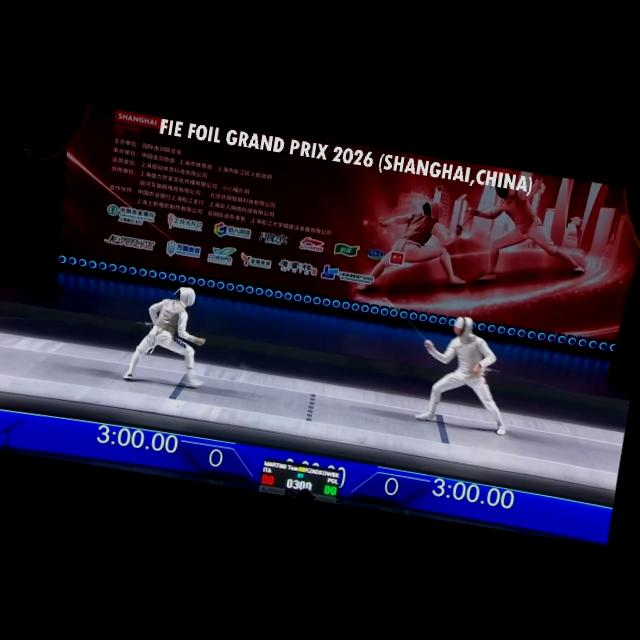blade: (374, 293, 440, 350)
